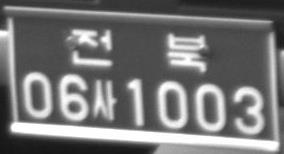0: (194, 82, 227, 134), (156, 79, 188, 130), (22, 70, 54, 119)
1: (123, 77, 151, 126)
3: (232, 85, 265, 136)
6: (58, 72, 89, 122)
사: (91, 79, 117, 122)
전북_D: (71, 27, 208, 73)
